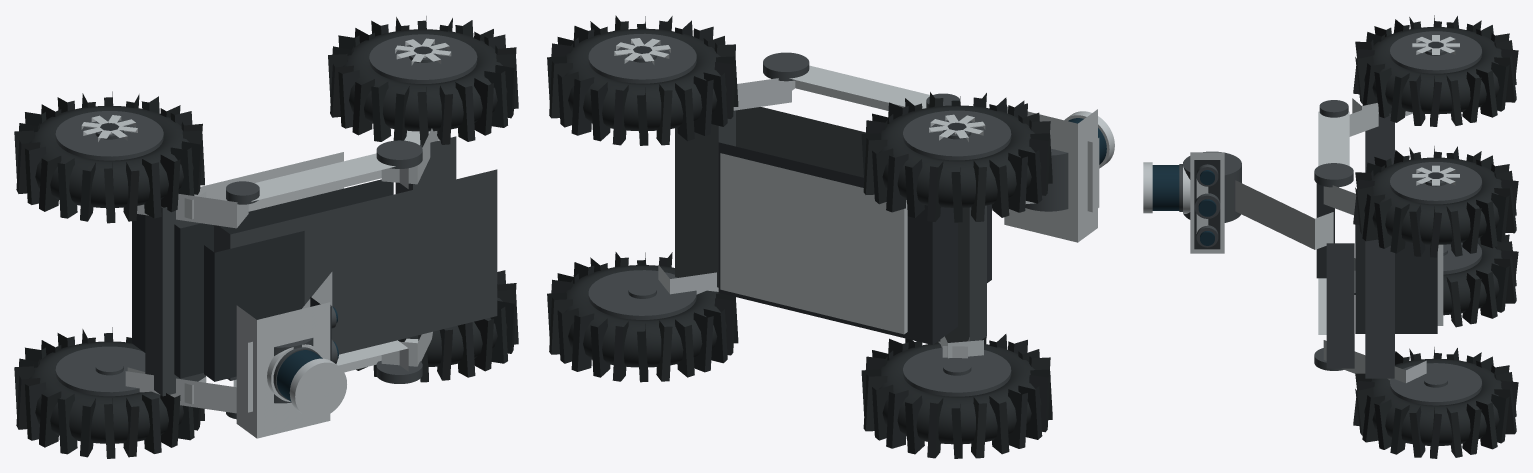
The model's file is surveillance_robot.glb.
The picture shows the model from 3 angles, left to right: view 1: azimuth 30°, elevation 25°; view 2: azimuth 150°, elevation 25°; view 3: azimuth 270°, elevation 25°; orthographic projection. The views are drawn at different scales.
Visible parts, largest first — view 1: upper_chassis_deck, wheel_front_left, wheel_rear_left, electronics_enclosure, rear_controller_cover, wheel_rear_right, camera_housing, wheel_front_left_tire, wheel_rear_left_tire, rear_crossmember, wheel_rear_right_tire, wheel_front_right (+18 smaller); view 2: underbody_skid, wheel_rear_left, wheel_front_left, wheel_rear_right, electronics_enclosure, wheel_front_right, front_crossmember, wheel_rear_left_tire, wheel_front_left_tire, upper_chassis_deck, wheel_rear_right_tire, wheel_front_right_tire (+13 smaller); view 3: wheel_front_left, wheel_rear_left, wheel_front_right, electronics_enclosure, wheel_rear_left_tire, wheel_front_left_tire, wheel_front_right_tire, front_crossmember, upper_chassis_deck, sensor_mast_lower, wheel_rear_right, wheel_rear_left_rim (+19 smaller).
Boxes of the visible parts, <box> form: upper_chassis_deck: <box>214,169,497,380</box>; wheel_front_left: <box>328,16,518,146</box>; wheel_rear_left: <box>14,91,204,223</box>; electronics_enclosure: <box>132,179,393,378</box>; rear_controller_cover: <box>204,231,304,381</box>; wheel_rear_right: <box>14,327,204,458</box>; camera_housing: <box>236,302,330,438</box>; wheel_front_left_tire: <box>339,29,507,131</box>; wheel_rear_left_tire: <box>25,106,193,207</box>; rear_crossmember: <box>145,207,205,396</box>; wheel_rear_right_tire: <box>25,341,183,443</box>; wheel_front_right: <box>356,270,518,382</box>; underbody_skid: <box>720,153,907,334</box>; wheel_rear_left: <box>861,92,1052,222</box>; wheel_front_left: <box>547,15,738,145</box>; wheel_rear_right: <box>861,334,1052,458</box>; electronics_enclosure: <box>718,142,957,344</box>; wheel_front_right: <box>547,252,738,382</box>; front_crossmember: <box>675,110,735,287</box>; wheel_rear_left_tire: <box>872,105,1041,207</box>; wheel_front_left_tire: <box>558,28,726,131</box>; upper_chassis_deck: <box>736,107,865,177</box>; wheel_rear_right_tire: <box>872,343,1041,444</box>; wheel_front_right_tire: <box>558,265,726,367</box>; wheel_front_left: <box>1353,146,1518,257</box>; wheel_rear_left: <box>1353,15,1518,126</box>; wheel_front_right: <box>1353,347,1518,458</box>; electronics_enclosure: <box>1355,224,1437,333</box>; wheel_rear_left_tire: <box>1364,27,1502,114</box>; wheel_front_left_tire: <box>1364,157,1502,244</box>; wheel_front_right_tire: <box>1364,358,1502,445</box>; front_crossmember: <box>1365,239,1394,378</box>; upper_chassis_deck: <box>1326,243,1354,368</box>; sensor_mast_lower: <box>1235,180,1333,249</box>; wheel_rear_right: <box>1354,234,1518,327</box>; wheel_rear_left_rim: <box>1390,31,1482,73</box>.
Size of the model in its own units: 1.43 by 0.847 by 1.14.
